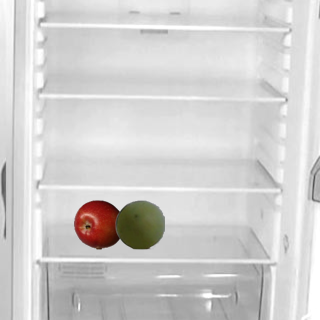Apple Braeburn: (73, 199, 123, 249)
Grape White 4: (114, 199, 164, 249)
